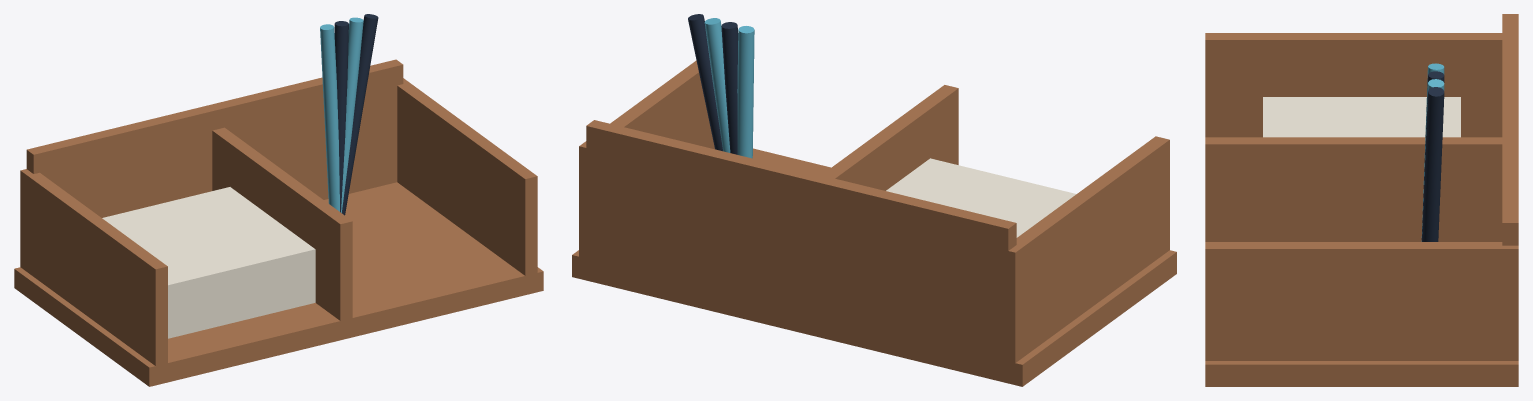
File: officeDeskOrganizer.glb
3 renders of one model, left to right at view 1: azimuth 30°, elevation 25°; view 2: azimuth 150°, elevation 25°; view 3: azimuth 270°, elevation 25°, orthographic. The views are drawn at different scales.
Bounding box in the file's own units: 0.32 × 0.171 × 0.19.
